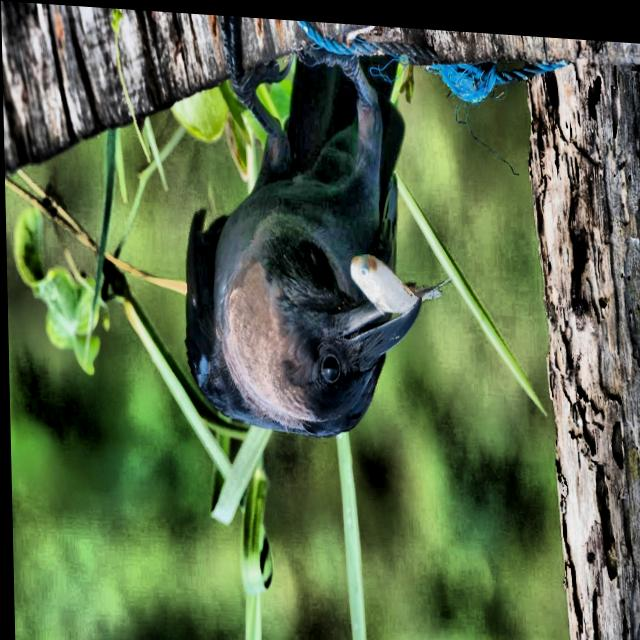crow: (173, 36, 473, 457)
